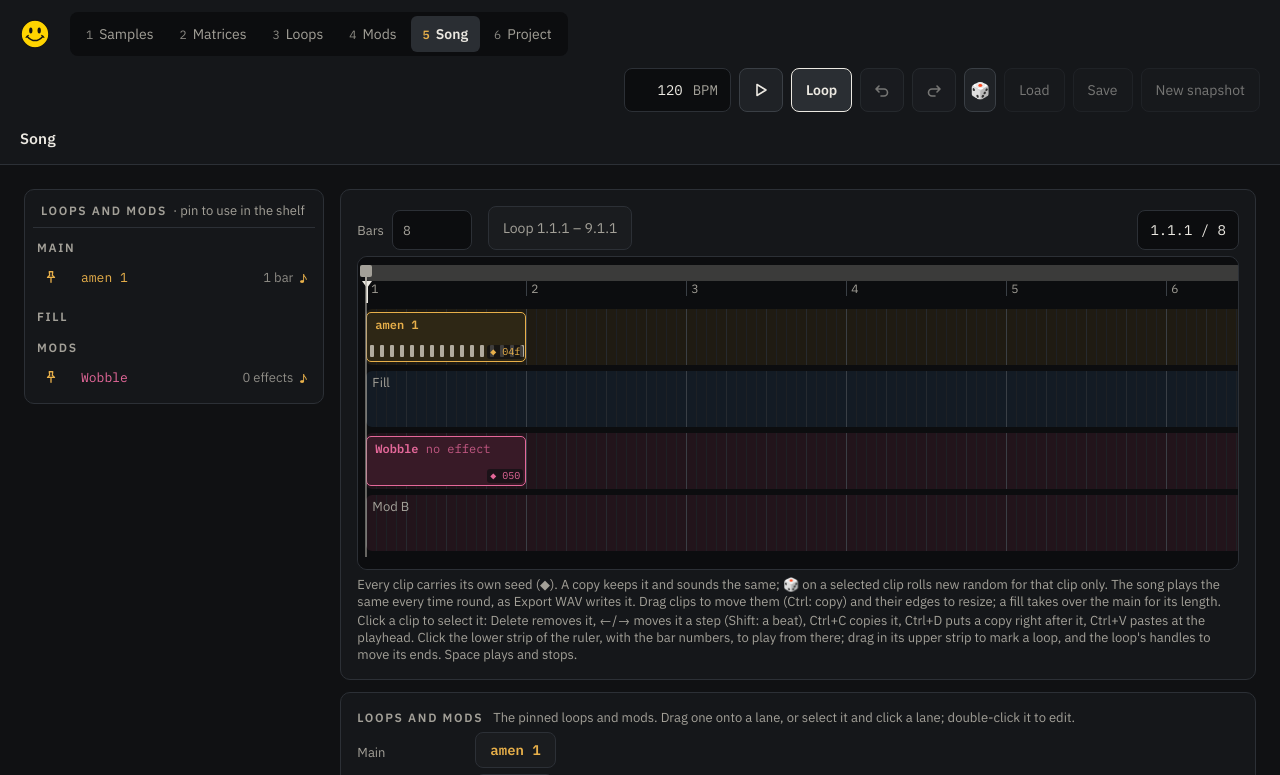
the selected clip’s panel › Copy after it puts a copy right after the clip, as Ctrl+D, selects it, and they sound the same
Click the button "amen 1 ◆ 04f": {"x": 446, "y": 337} top-left (366, 312), bottom-right (526, 362)
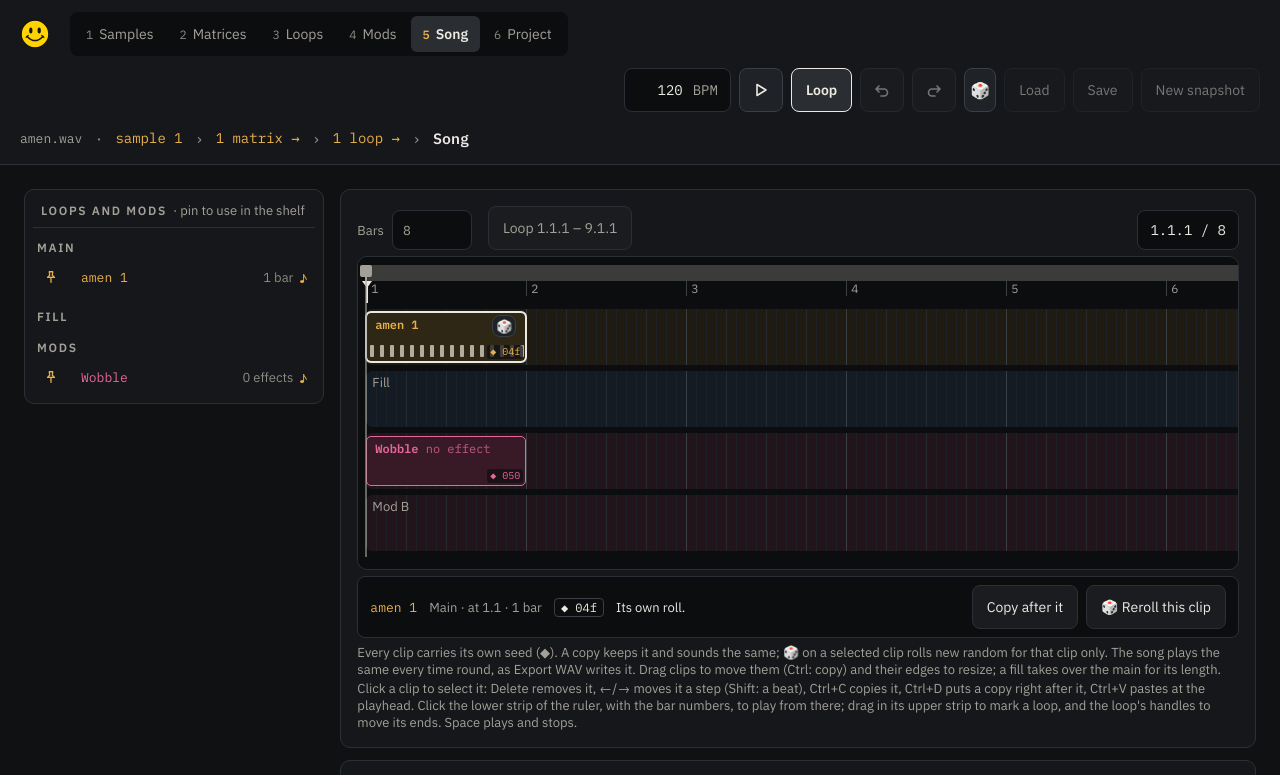
Click the button "Copy after it": {"x": 1025, "y": 607} top-left (972, 585), bottom-right (1078, 629)
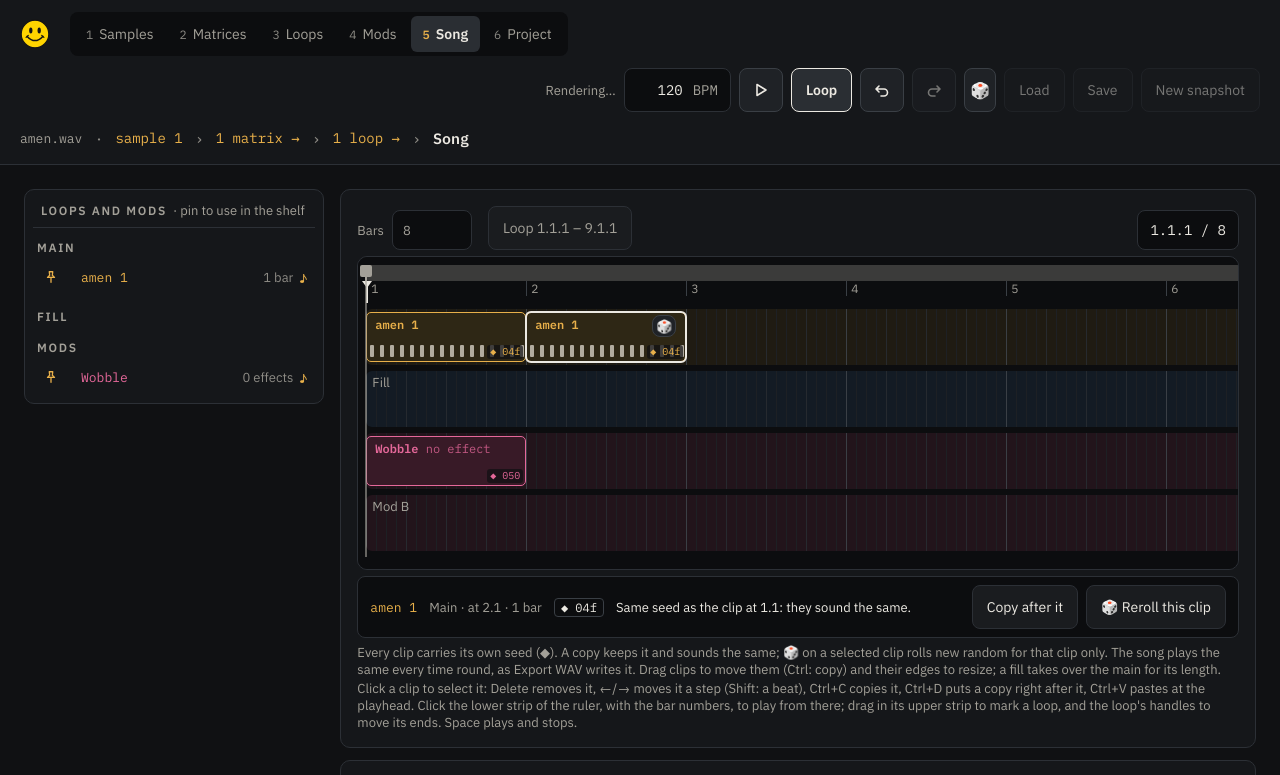
Expected: the text "Main · at 2.1 · 1 bar" is shown, top-left (429, 598), bottom-right (542, 616)
Expected: the text "Same seed as the clip at 1.1: they sound the same." is shown, top-left (616, 598), bottom-right (911, 616)
Press d
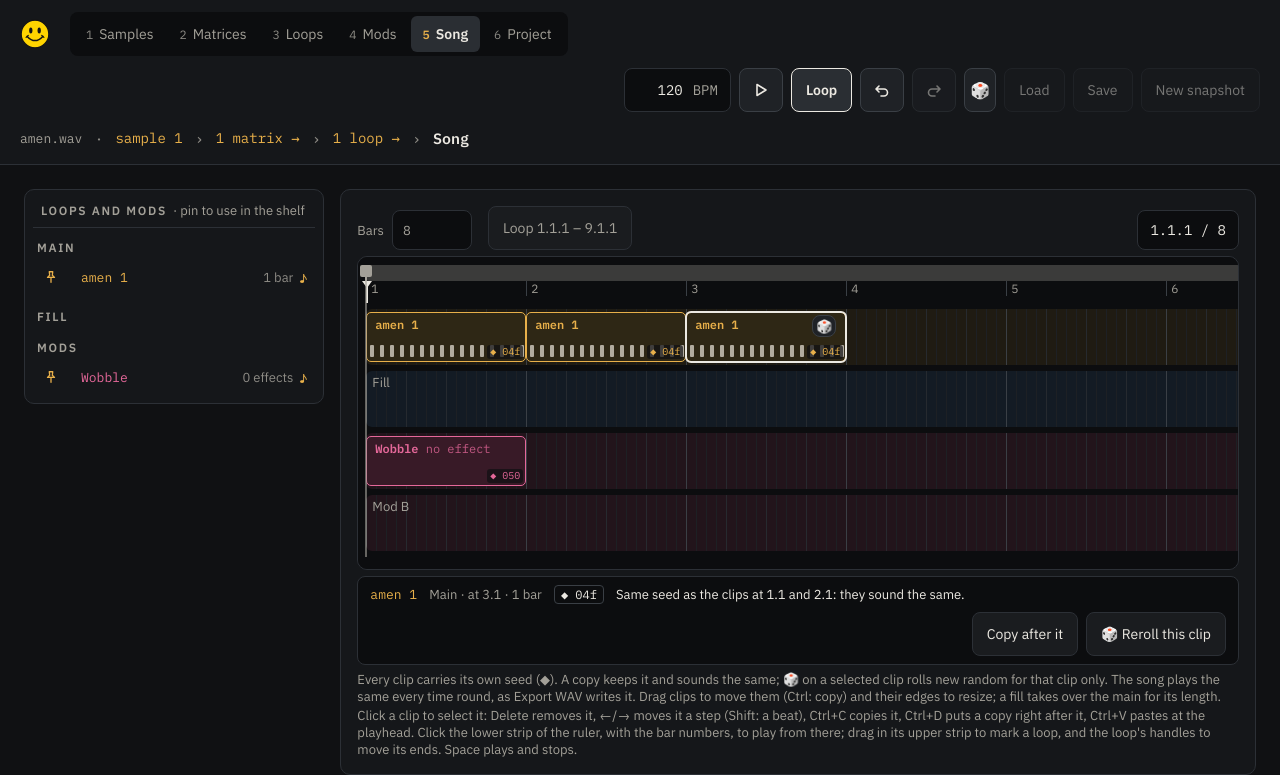
Expected: the text "Same seed as the clips at 1.1 and 2.1: they sound the same." is shown, top-left (616, 586), bottom-right (964, 603)
